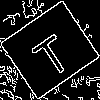T: (25, 25, 75, 81)
